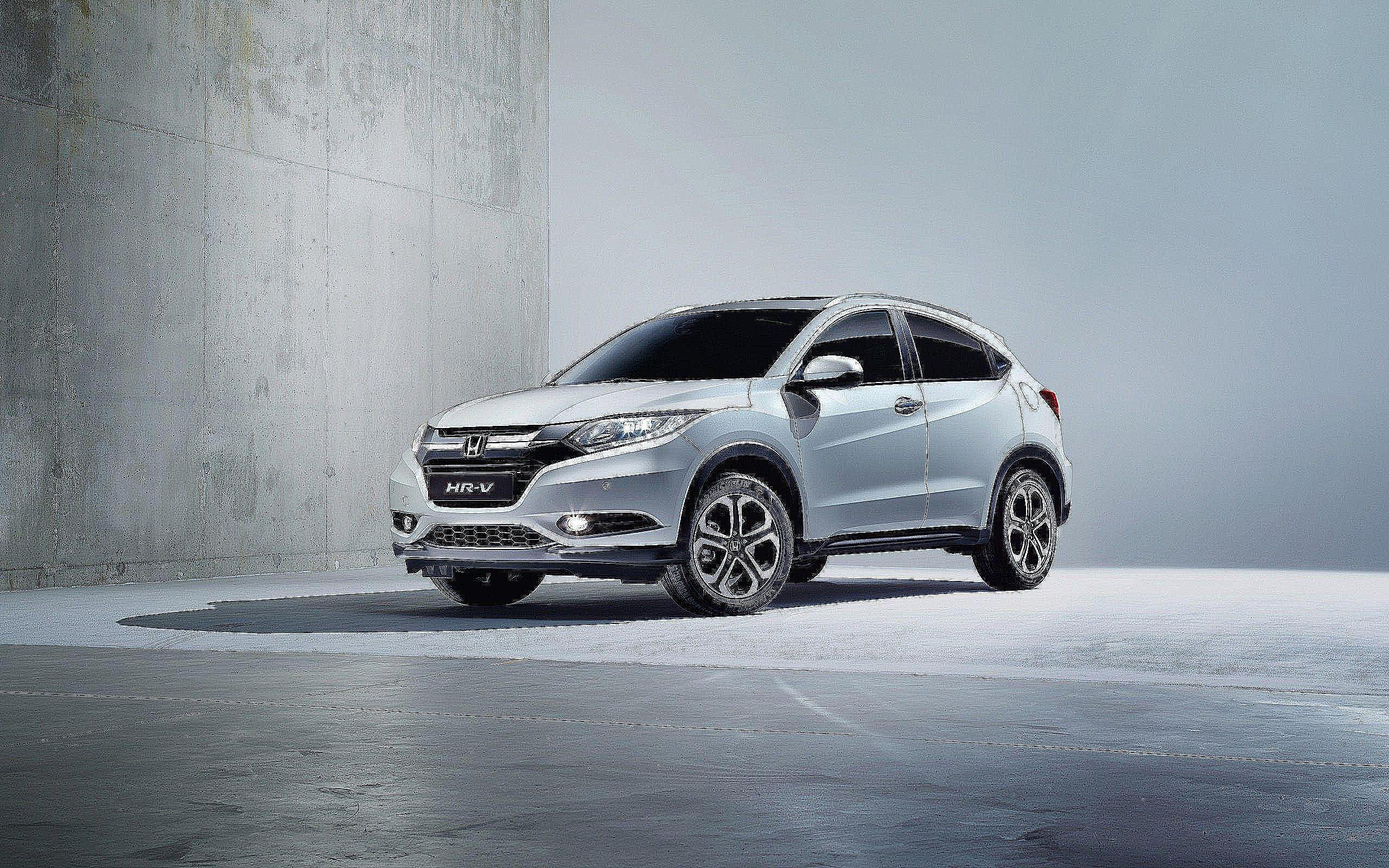Car hood: (426, 374, 753, 440)
Fender - -F-L-: (687, 372, 817, 581)
Fender - -R-L-: (1004, 354, 1080, 518)
Front bumper: (383, 441, 702, 577)
Headlight - -L-: (564, 402, 708, 457)
Passenger-s door - -F-L-: (781, 269, 943, 561)
Passenger-s door - -R-L-: (893, 275, 1037, 576)
Rear light - -L-: (1038, 385, 1069, 426)
Side bumper - -L-: (793, 502, 999, 569)
Side mirror - -L-: (775, 345, 868, 407)
